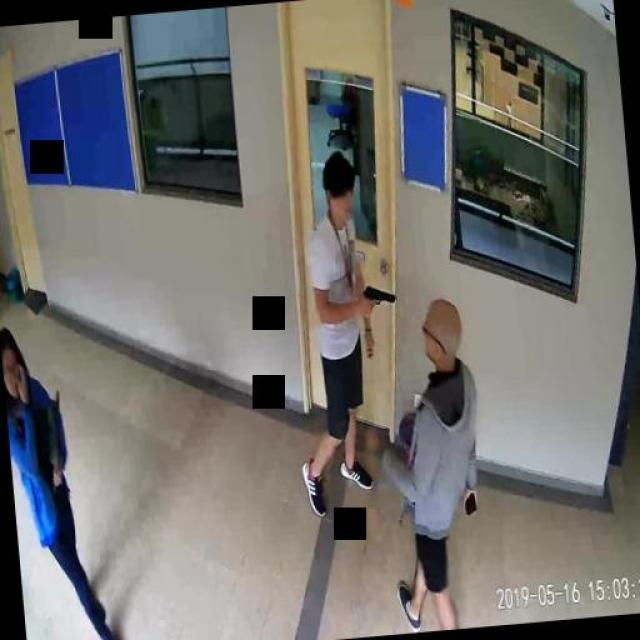gun: (362, 278, 397, 318)
